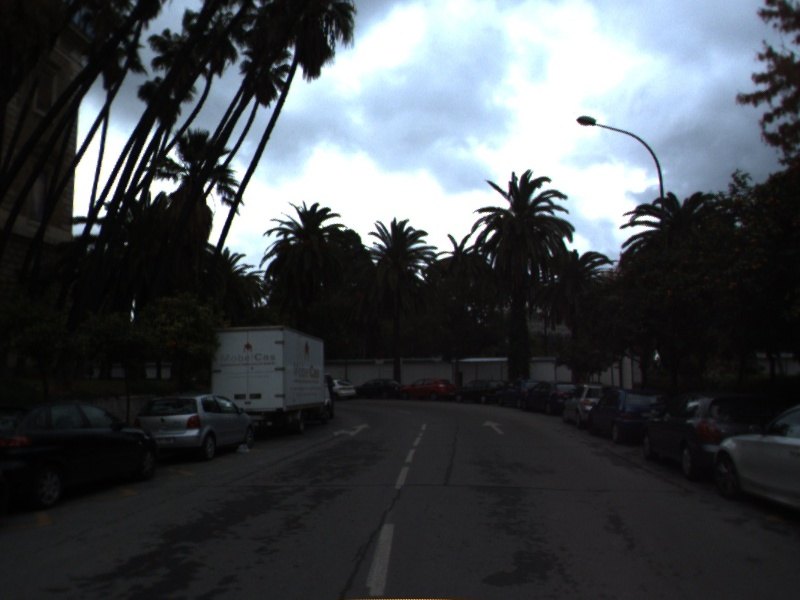STRAIGHT: (480, 418, 508, 436)
STRAIGHT_LEFT: (330, 421, 373, 440)
